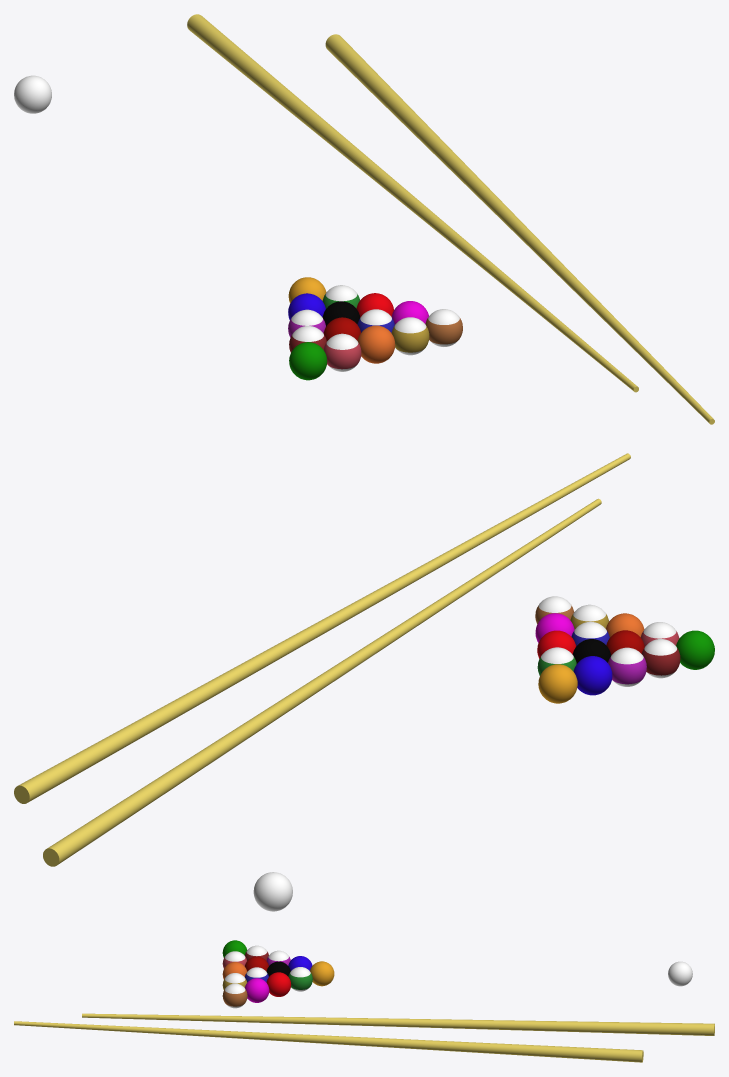
Rendered from pool utilities.fbx.
The picture shows the model from 3 angles, top to bottom: view 1: azimuth 30°, elevation 25°; view 2: azimuth 150°, elevation 25°; view 3: azimuth 270°, elevation 25°; orthographic projection. The views are drawn at different scales.
Visible parts, largest first — view 1: Poolcue.001, Poolcue, Sphere.011, Sphere.015, Sphere.012, Sphere.005, Sphere.013, Sphere.014; view 2: Poolcue, Poolcue.001, Sphere, Sphere.015, Sphere.002, Sphere.011, Sphere.004, Sphere.008; view 3: Poolcue.001, Poolcue, Sphere.015, Sphere.014, Sphere.009, Sphere, Sphere.006, Sphere.001, Sphere.011, Sphere.013, Sphere.005, Sphere.012 (+6 smaller).
Boxes of the visible parts, x1,y1,x2,y2 form: Poolcue.001: (187,14,638,392); Poolcue: (325,34,714,424); Sphere.011: (289,342,327,380); Sphere.015: (14,75,51,113); Sphere.012: (391,317,429,355); Sphere.005: (323,333,361,371); Sphere.013: (357,325,395,363); Sphere.014: (425,309,462,346); Poolcue: (14,453,630,803); Poolcue.001: (43,498,601,866); Sphere: (538,664,577,703); Sphere.015: (253,872,292,911); Sphere.002: (573,656,612,695); Sphere.011: (676,630,714,669); Sphere.004: (608,647,646,686); Sphere.008: (641,639,680,678); Poolcue.001: (82,1013,714,1035); Poolcue: (14,1021,643,1062); Sphere.015: (668,961,692,986); Sphere.014: (222,983,247,1008); Sphere.009: (245,978,269,1002); Sphere: (310,961,334,986); Sphere.006: (266,972,291,996); Sphere.001: (288,967,312,991); Sphere.011: (222,940,246,957); Sphere.013: (222,962,247,979); Sphere.005: (222,951,246,968); Sphere.012: (222,973,247,989).
Size of the model in its own units: 62.64 by 5.7 by 160.
